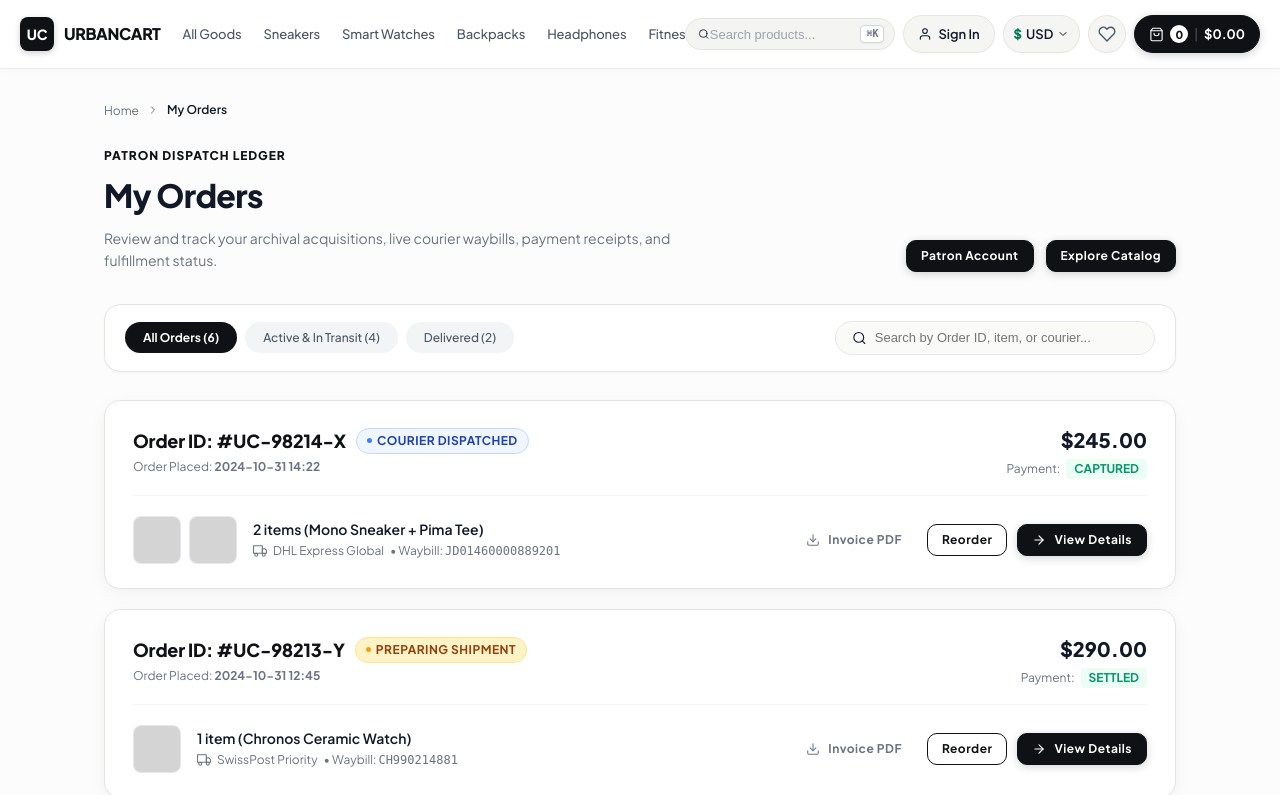
14. My Orders & Order Details Page Suite › My Orders Page (OrdersPage) › filters orders by status (All, Active, Delivered) and searches orders
Filter: Delivered
Click the button with test id "filter-orders-delivered": (460, 338) [406,322,514,353]
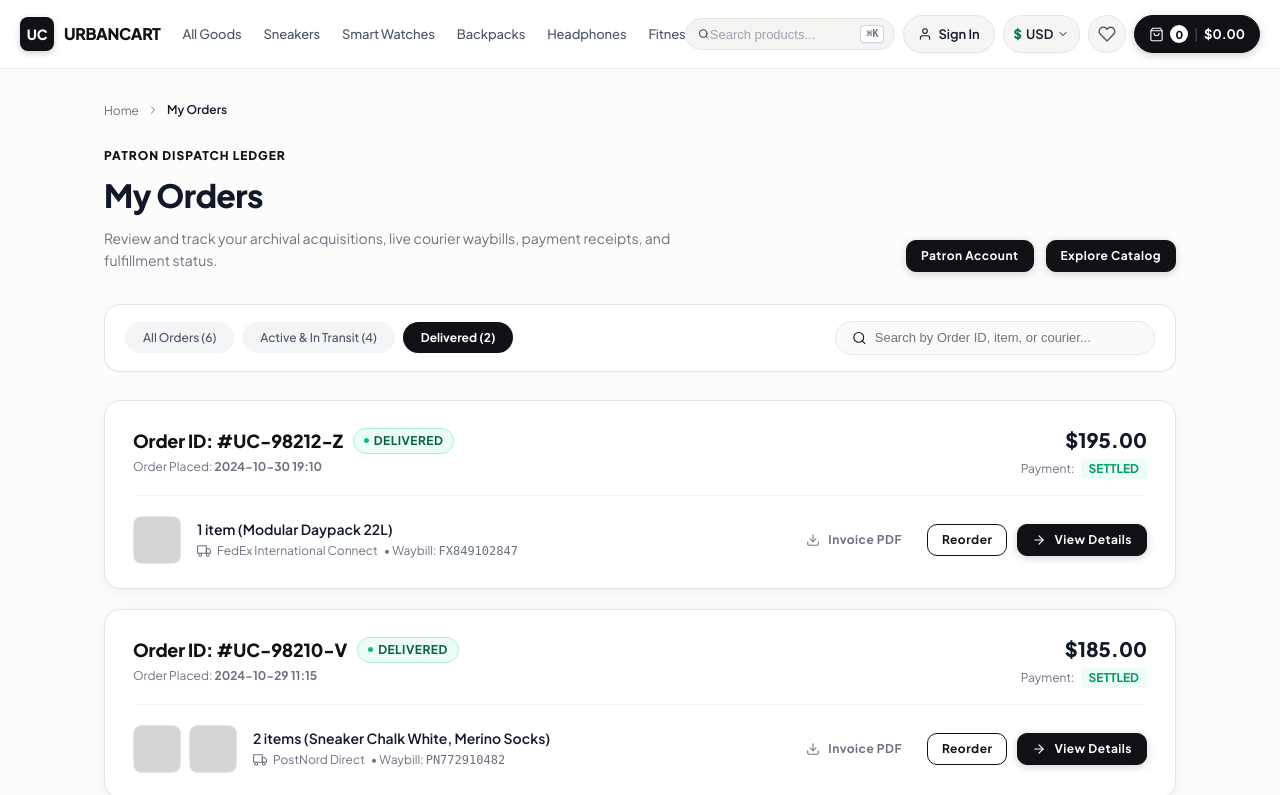
Expected: the text "Order ID: #UC-98212-Z" is shown, [133,427,343,454]
Now the text "#UC-98214-X" is gone
Search bar
In the field with test id "orders-page-search-input": (1006, 338) [875,330,1138,345], type "Ceramic"
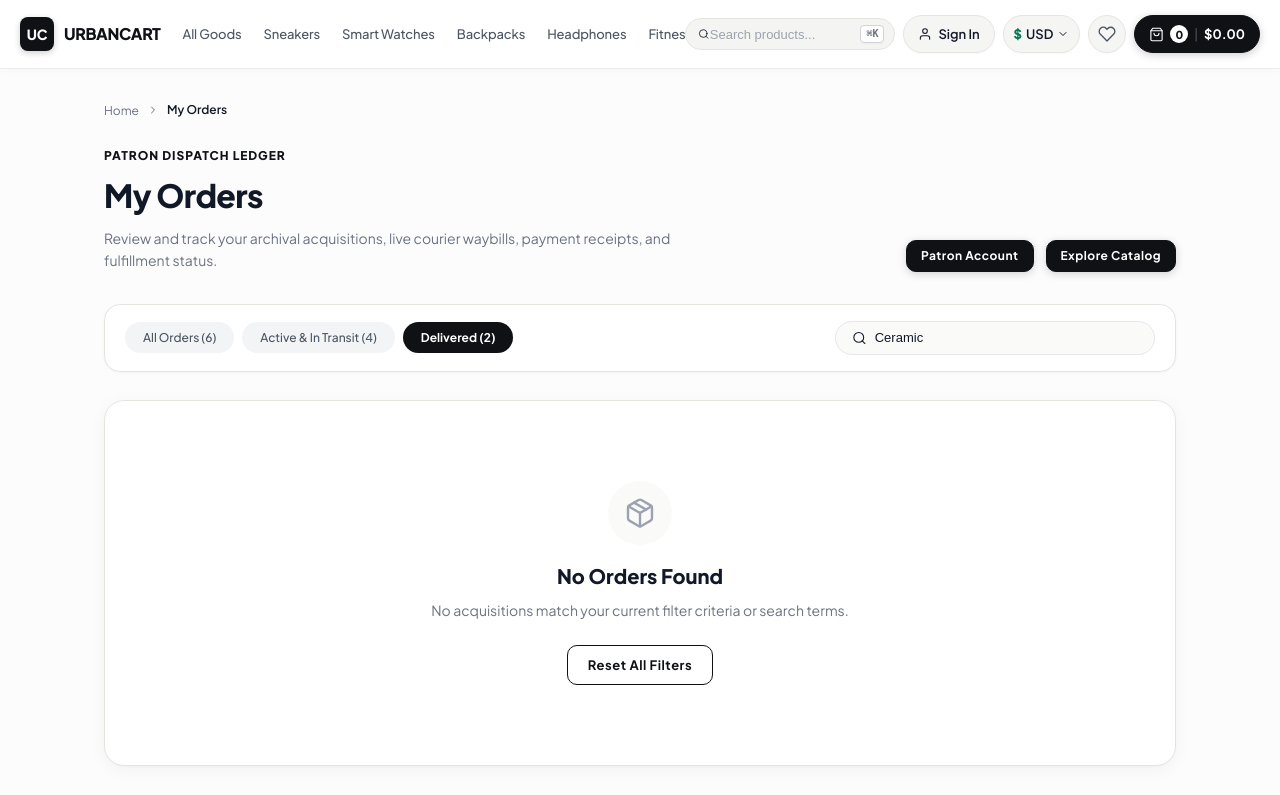
Reset filter to all to test search across all
Click the button with test id "filter-orders-all": (180, 338) [125,322,234,353]
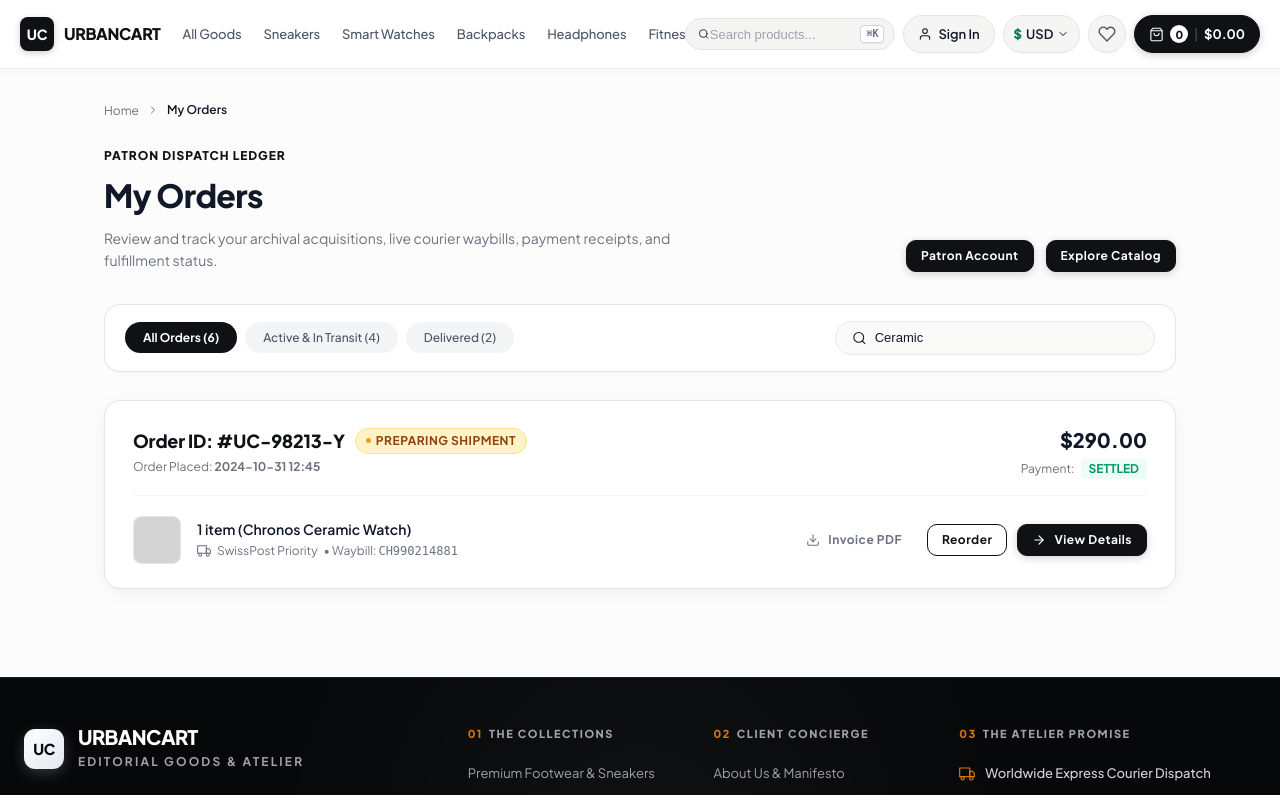
Now the text "Order ID: #UC-98213-Y" is shown, box [133,427,345,454]
